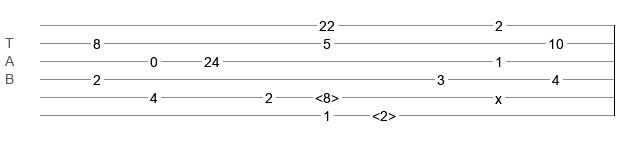0: (150, 54, 158, 64)
1: (323, 108, 331, 118), (495, 54, 503, 64)
10: (548, 36, 564, 46)
2: (93, 72, 101, 82), (265, 90, 273, 100), (495, 18, 503, 28)
22: (319, 18, 335, 28)
24: (204, 54, 220, 64)
3: (437, 72, 445, 82)
4: (150, 90, 158, 100), (552, 72, 560, 82)
5: (323, 36, 331, 46)
8: (93, 36, 101, 46)
harmonic: (315, 90, 339, 100), (372, 108, 396, 118)
x: (495, 91, 502, 99)
